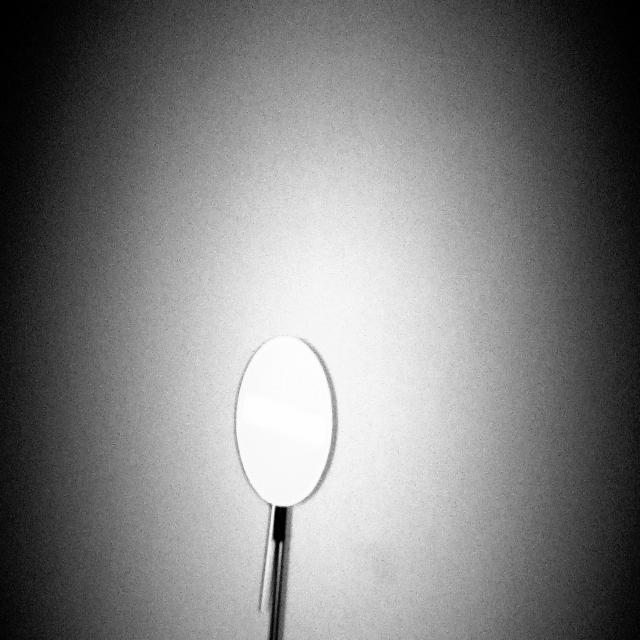Sign: (234, 332, 336, 509)
